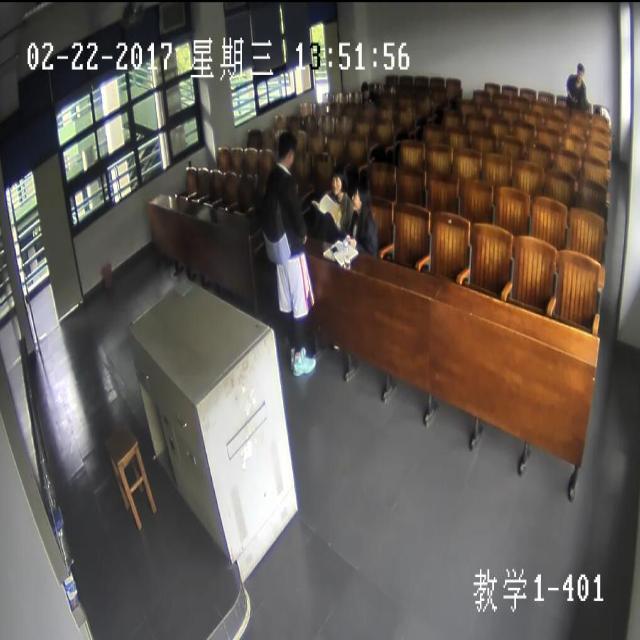person: (273, 130, 298, 168), (329, 163, 350, 198), (351, 180, 368, 212), (575, 59, 586, 77)
